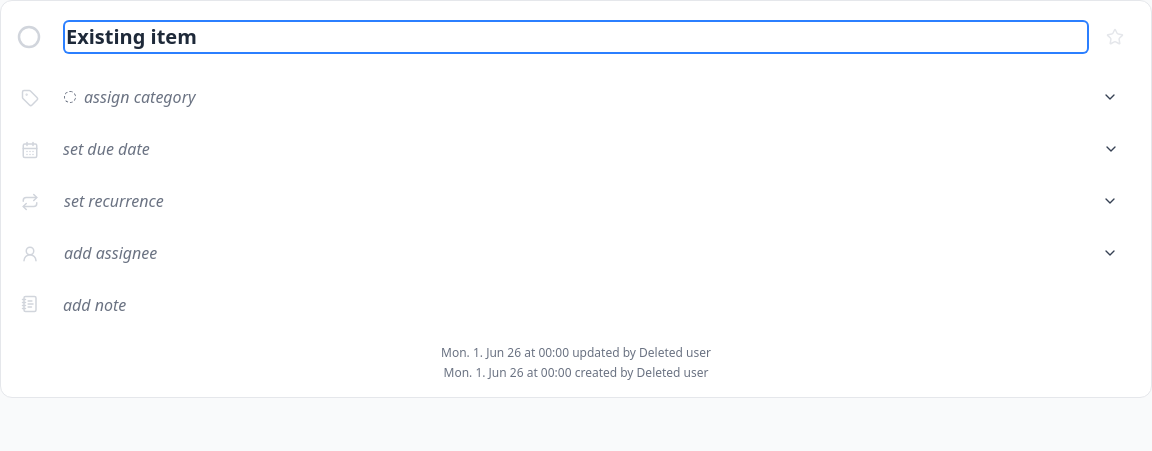
it: ItemForm › existing item autosave › keeps the editor open and reports an error when a title autosave fails
Replace the text in the field named "Item title" with "Unsaved item" at (576, 37), box [65,22,1087,52]
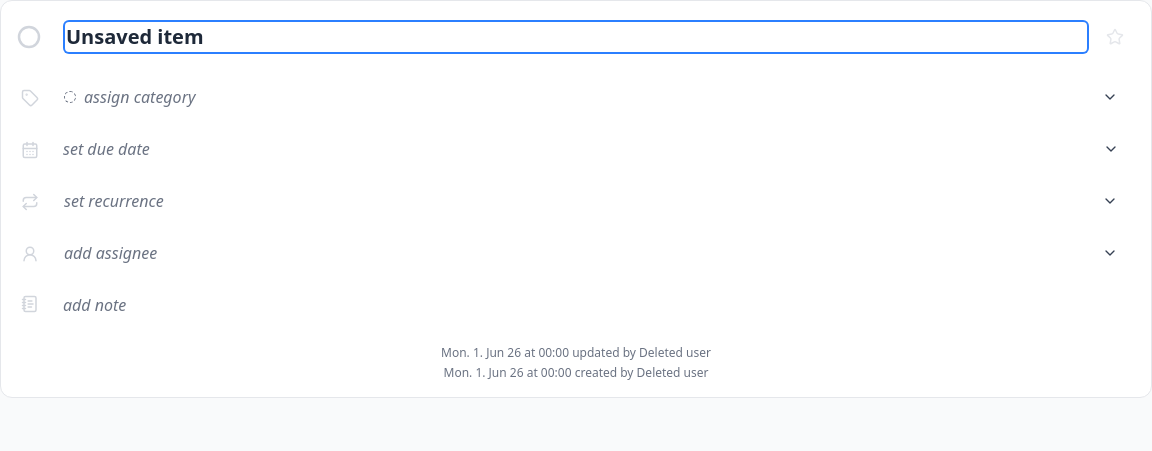
Leave the field named "Item title", box [65,22,1087,52]
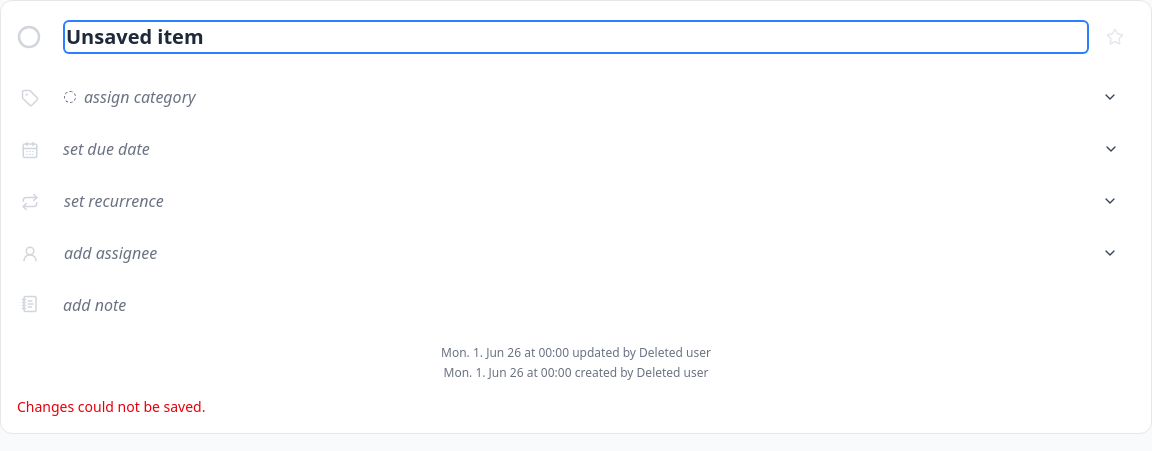
Result: the text "Changes could not be saved." is shown at [17,397,206,416]
